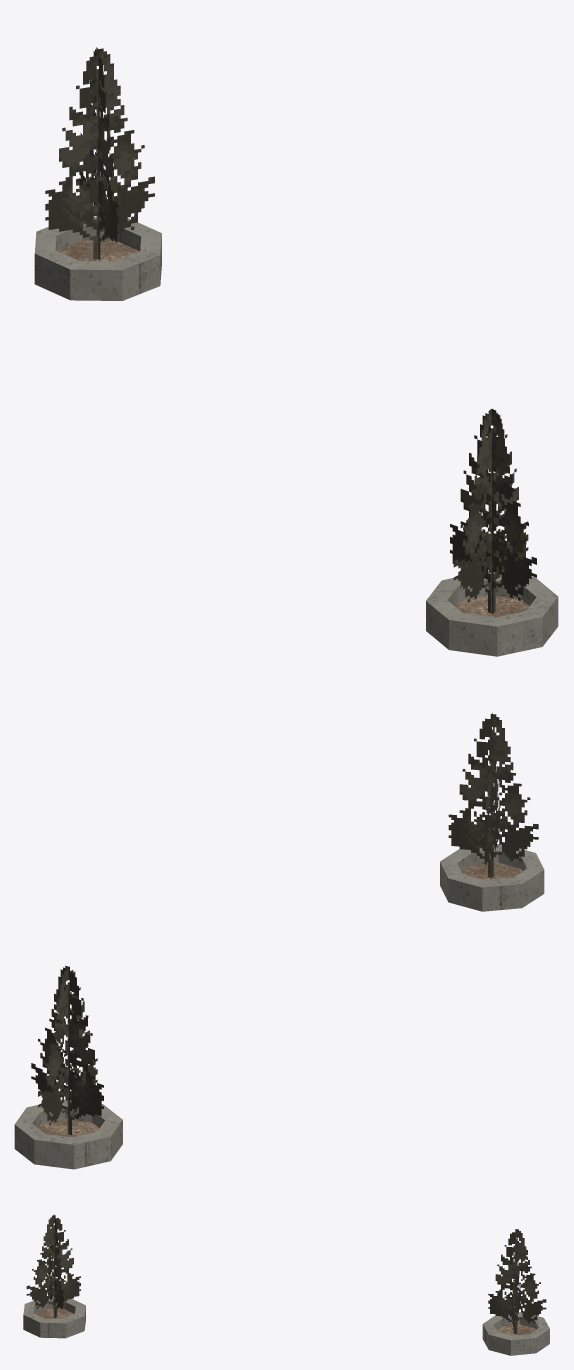
Rendered from procgen-procpain-tree-park-pine-large-xm3z0.obj.
3 views of the same model, one above another, from view 1: azimuth 30°, elevation 25°; view 2: azimuth 150°, elevation 25°; view 3: azimuth 270°, elevation 25° (orthographic). The views are drawn at different scales.
Bounding box in the file's own units: 9.04 × 9.09 × 39.97.
